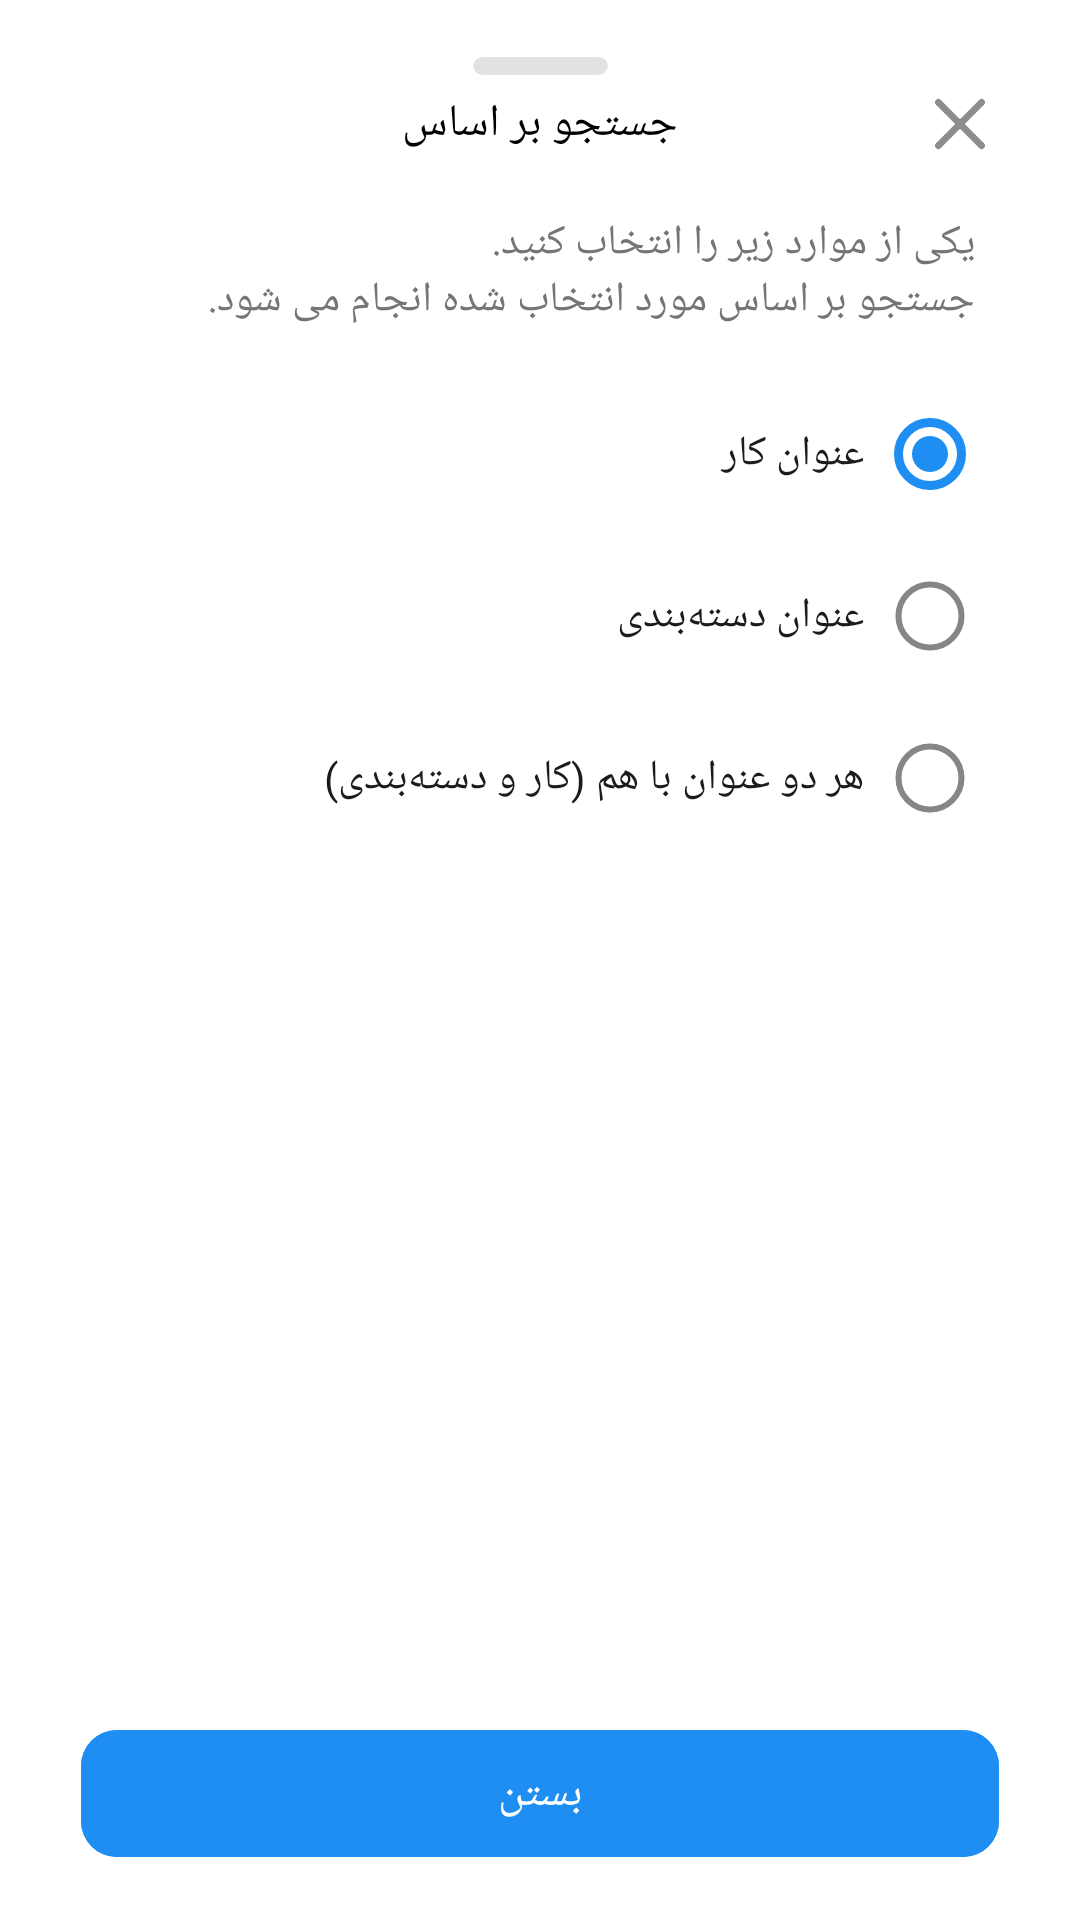

Icons on this 1080x1920 Android screen, each with the point to tap as [x,y]:
بستن: [960,124]
